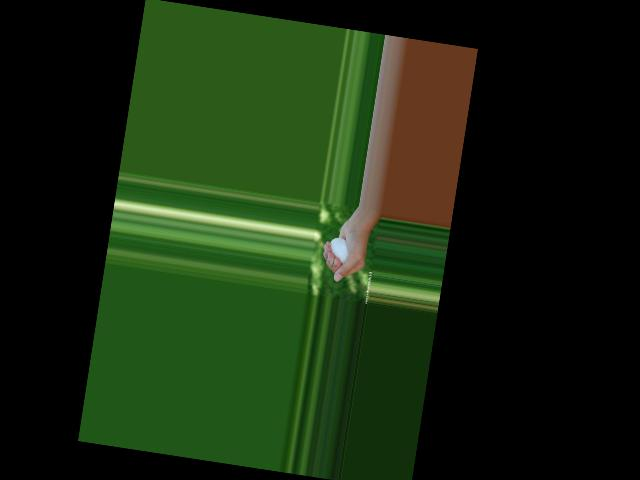egg: (327, 236, 349, 265)
